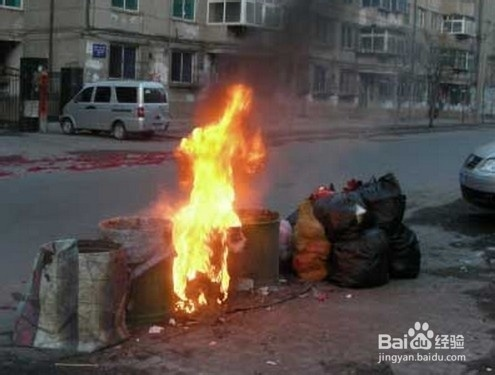fire: (162, 78, 271, 305)
